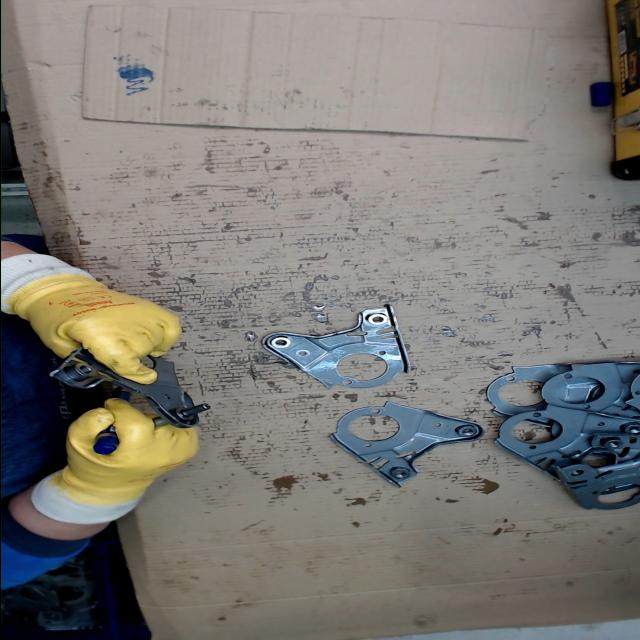hands: (11, 278, 184, 386), (56, 394, 202, 504)
